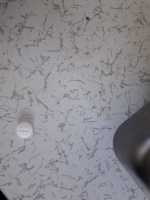Arveles: (15, 120, 34, 140)
